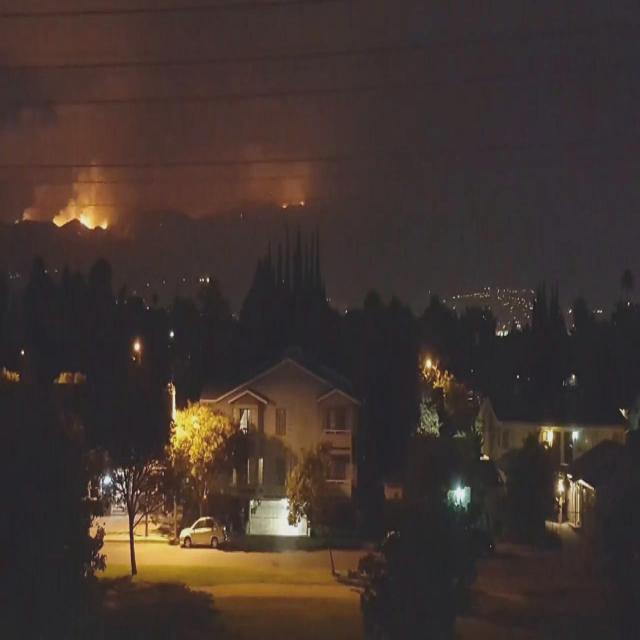Fire: (53, 204, 111, 234), (298, 197, 304, 208), (282, 201, 288, 208)
